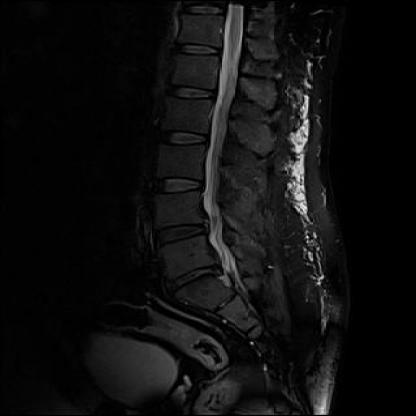Degenerative Disc Diseaserotation: (150, 220, 211, 246), (149, 174, 205, 198), (166, 266, 225, 287)
Disc Bulgerotation: (165, 265, 229, 288), (149, 175, 207, 199), (151, 222, 212, 244)
